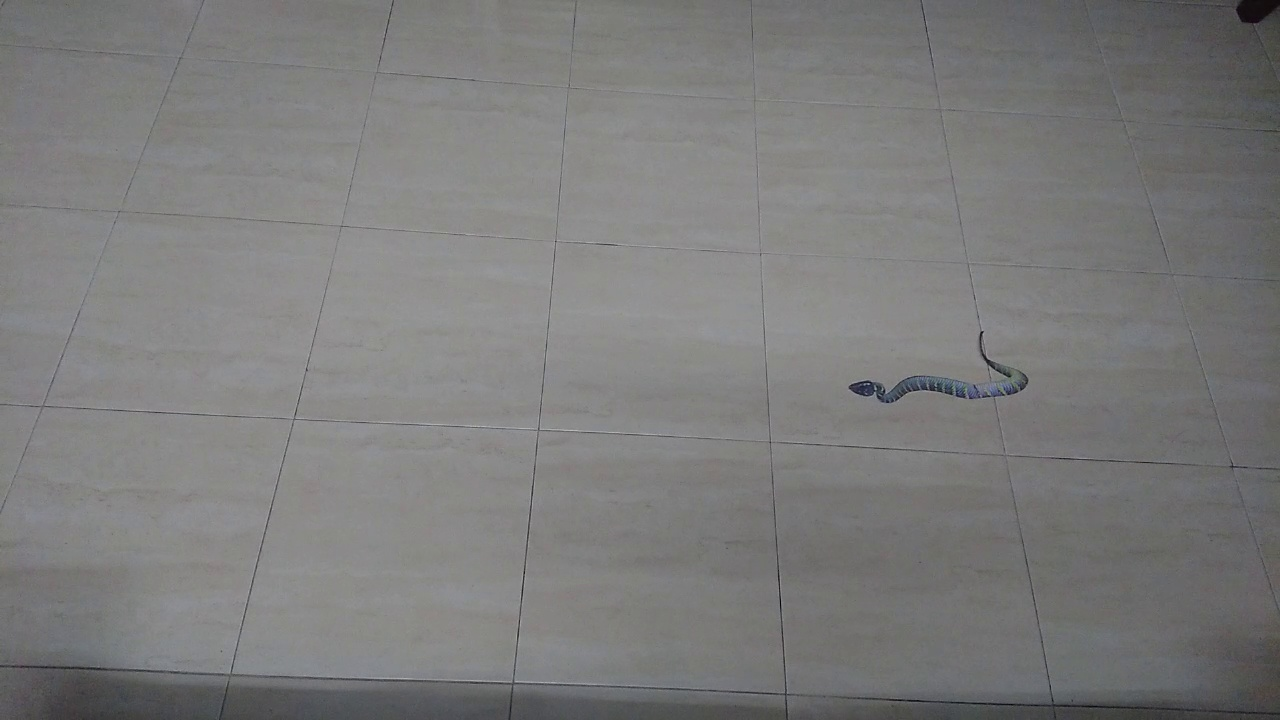snake: (831, 314, 1043, 420)
